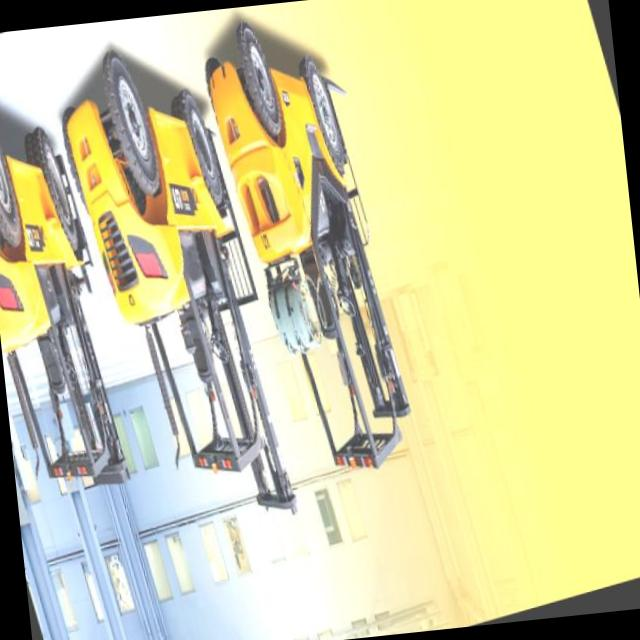forklift: (42, 22, 318, 565), (182, 0, 443, 518), (0, 52, 151, 549)
